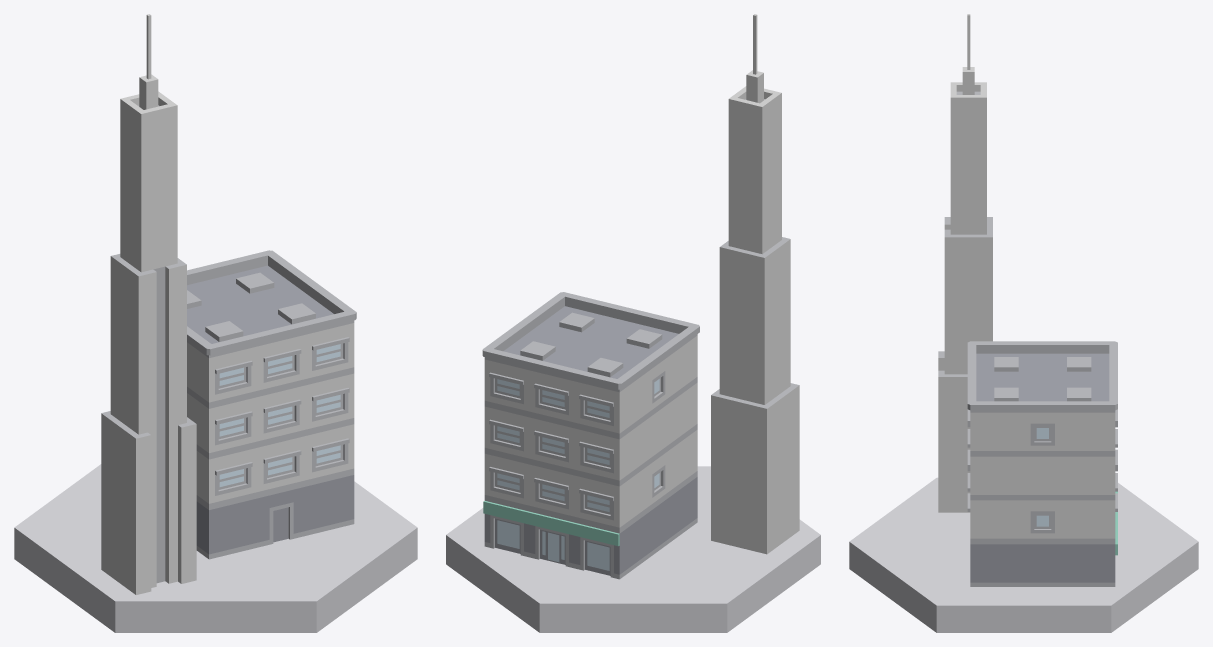
The model's file is 2_buildings_4_low.fbx.
The picture shows the model from 3 angles, left to right: view 1: azimuth 30°, elevation 25°; view 2: azimuth 150°, elevation 25°; view 3: azimuth 270°, elevation 25°; orthographic projection. The views are drawn at different scales.
Visible parts, largest first — view 1: large_buildingD.001, low_buildingA.001, pavement_low.018; view 2: large_buildingD.001, low_buildingA.001, pavement_low.018; view 3: large_buildingD.001, pavement_low.018, low_buildingA.001.
Boxes of the visible parts, <box> form: large_buildingD.001: <box>187,250,356,559</box>; low_buildingA.001: <box>101,14,196,594</box>; pavement_low.018: <box>14,464,417,632</box>; large_buildingD.001: <box>482,292,699,579</box>; low_buildingA.001: <box>711,14,799,554</box>; pavement_low.018: <box>446,466,820,632</box>; large_buildingD.001: <box>967,341,1117,586</box>; pavement_low.018: <box>849,477,1198,632</box>; low_buildingA.001: <box>938,14,992,512</box>.
Size of the model in its own units: 100 by 187 by 115.
